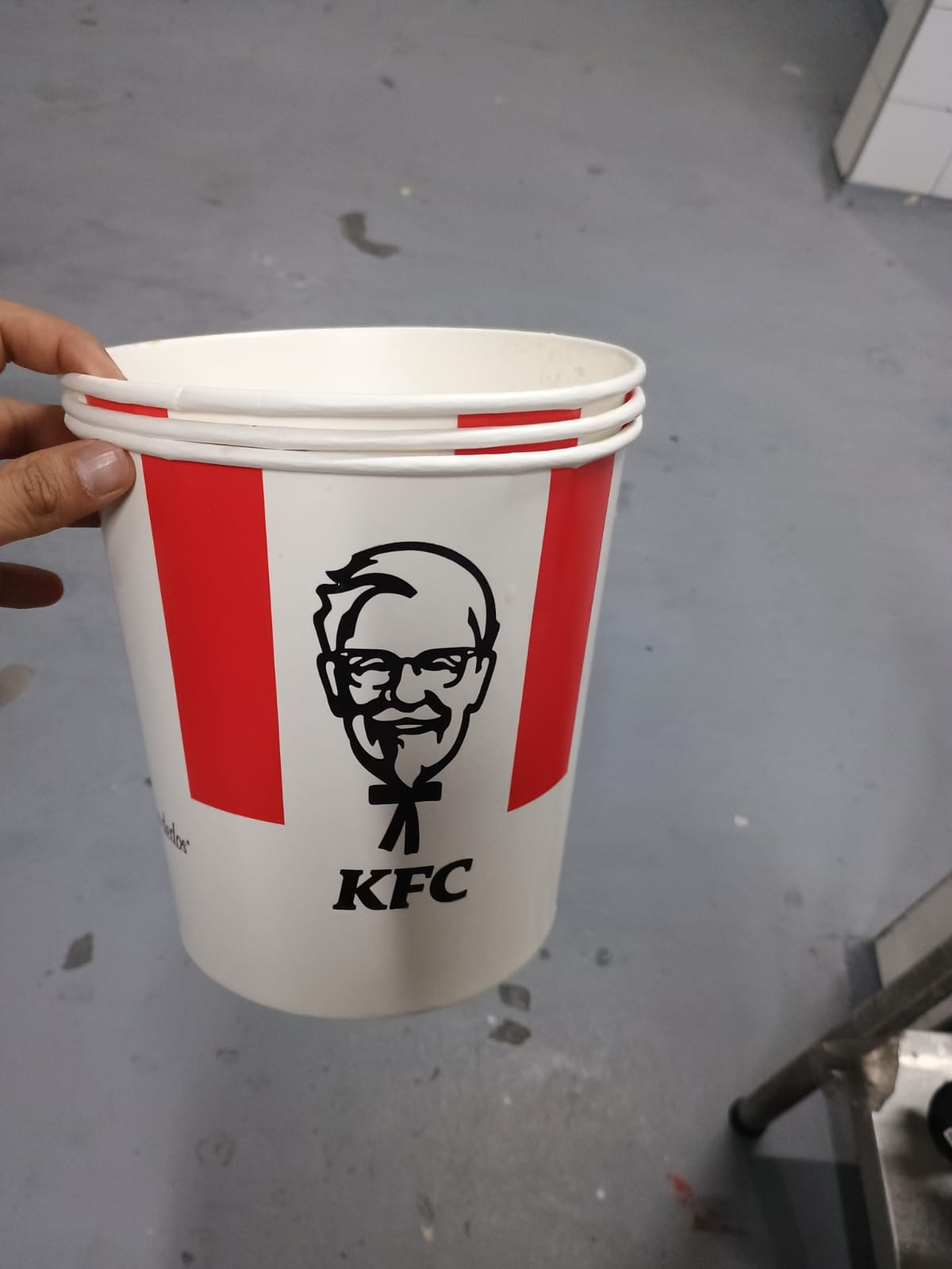Carton: (62, 327, 650, 1023)
